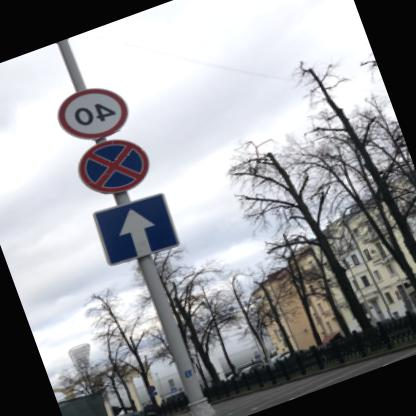speedlimit: (52, 74, 138, 148)
